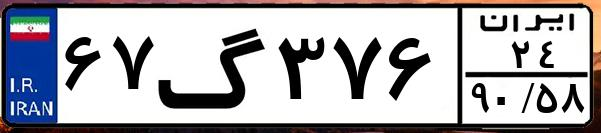0: (495, 70, 520, 125)
2: (508, 27, 537, 80)
3: (270, 28, 330, 110)
4: (537, 27, 568, 80)
5: (535, 70, 560, 125)
6: (385, 28, 445, 110), (57, 26, 110, 100)
7: (330, 28, 385, 110), (110, 28, 156, 98)
8: (560, 70, 590, 125)
9: (470, 70, 495, 125)
گ: (156, 12, 270, 120)
